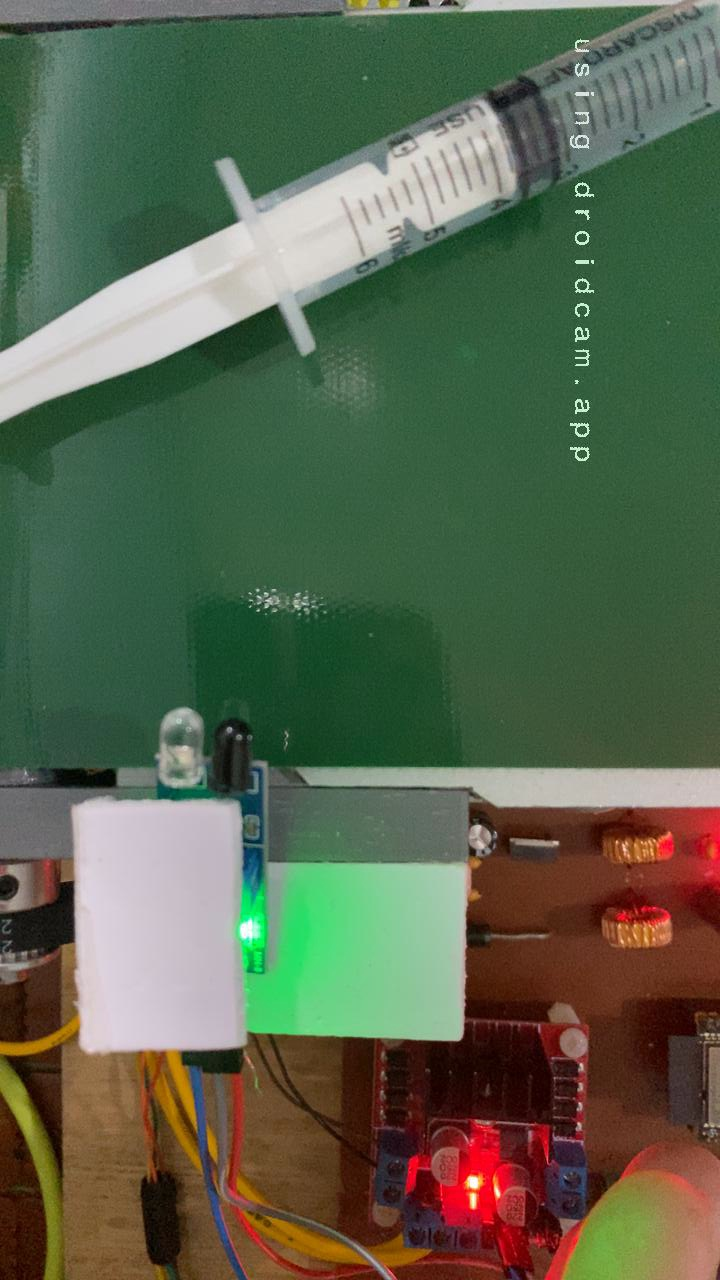syringe: (0, 13, 720, 431)
